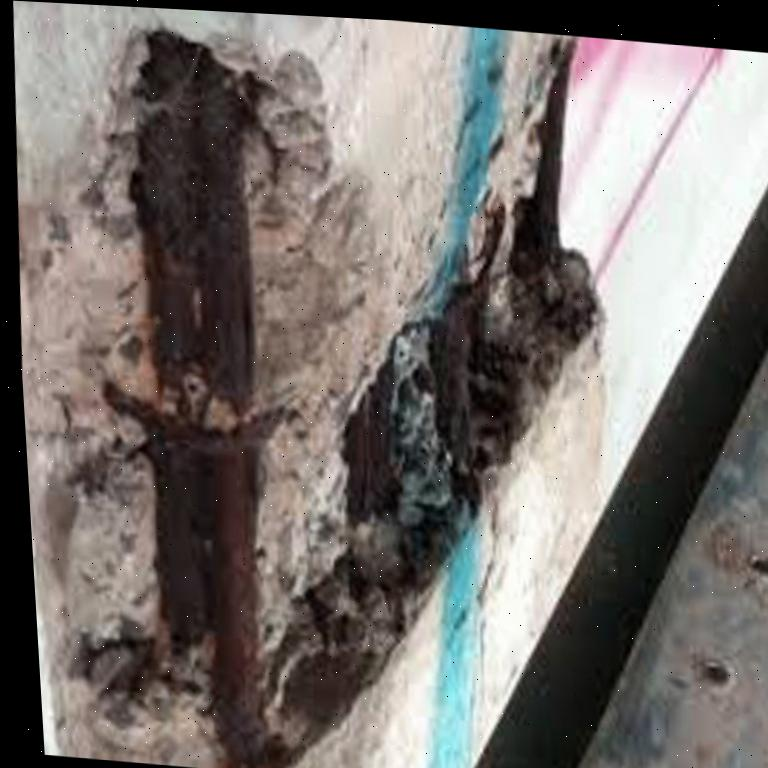exposed_rebar: (130, 31, 264, 768), (344, 359, 403, 524), (434, 295, 473, 477)
spalling: (19, 31, 598, 768)
